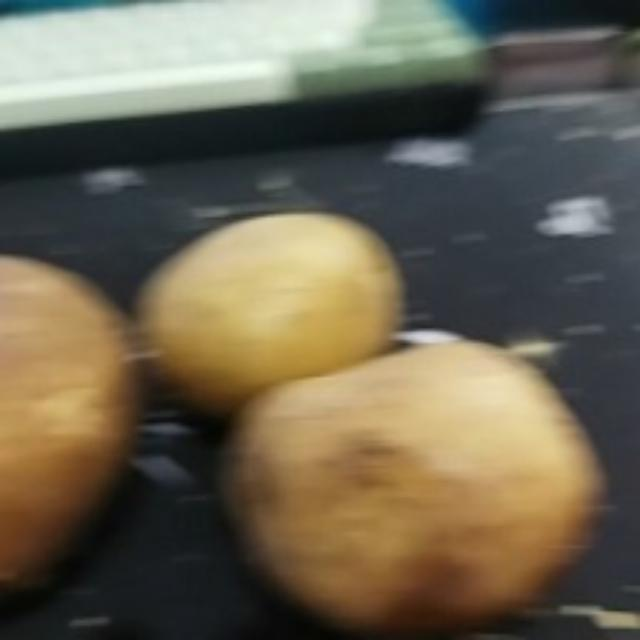Damaged potato: (215, 329, 627, 635)
Potato: (134, 208, 413, 412), (0, 255, 146, 618)
